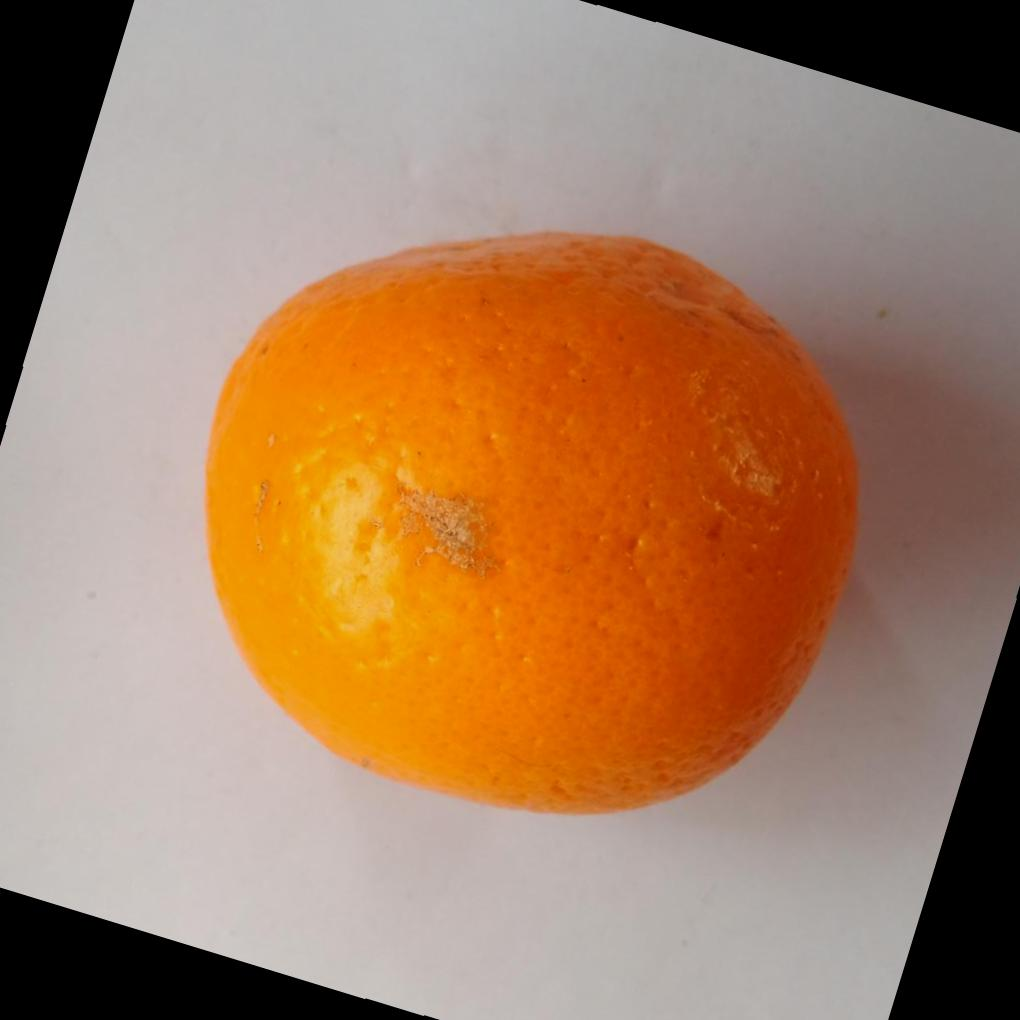FreshGuava: (198, 227, 858, 815)
